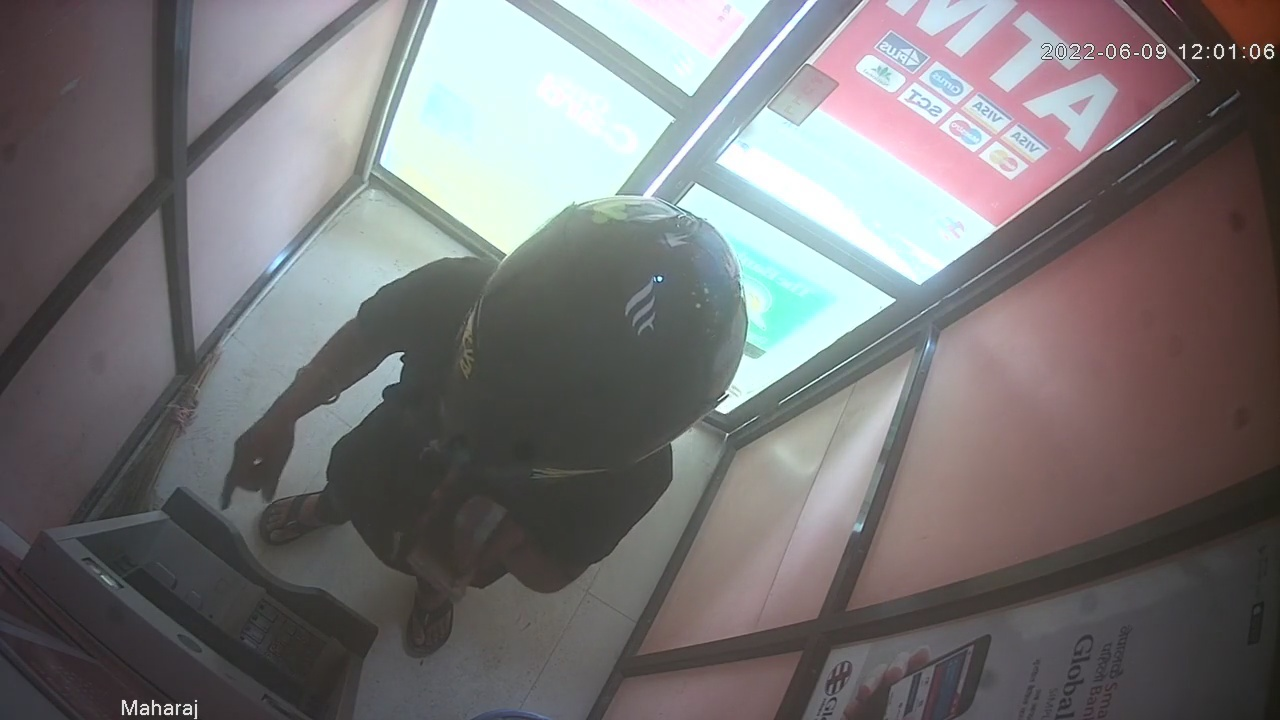helmet: (452, 195, 747, 482)
person: (219, 191, 747, 659)
